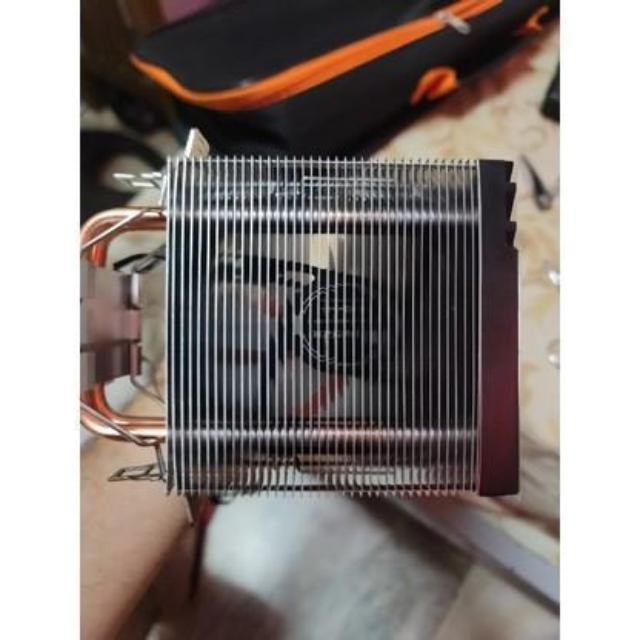CPU_Fan: (79, 145, 526, 500)
